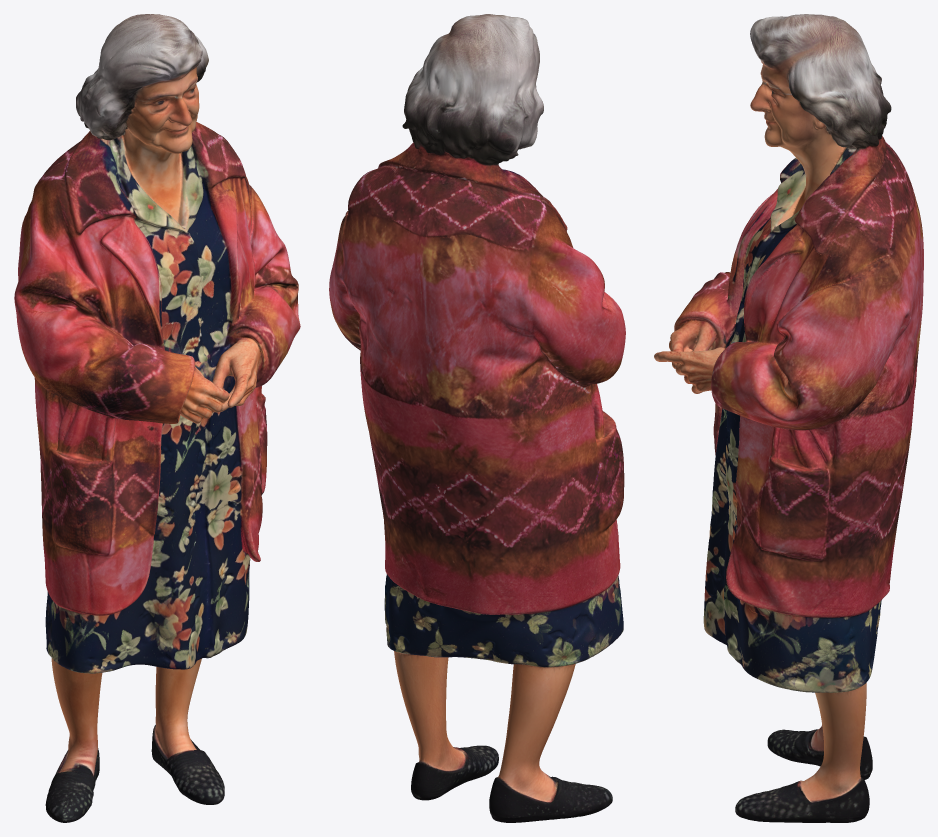
File: abuela.glb
The picture shows the model from 3 angles, left to right: view 1: azimuth 30°, elevation 25°; view 2: azimuth 150°, elevation 25°; view 3: azimuth 270°, elevation 25°; orthographic projection. The views are drawn at different scales.
Size of the model in its own units: 0.705 by 1.9 by 0.5924.
1 material, 1 textured.
